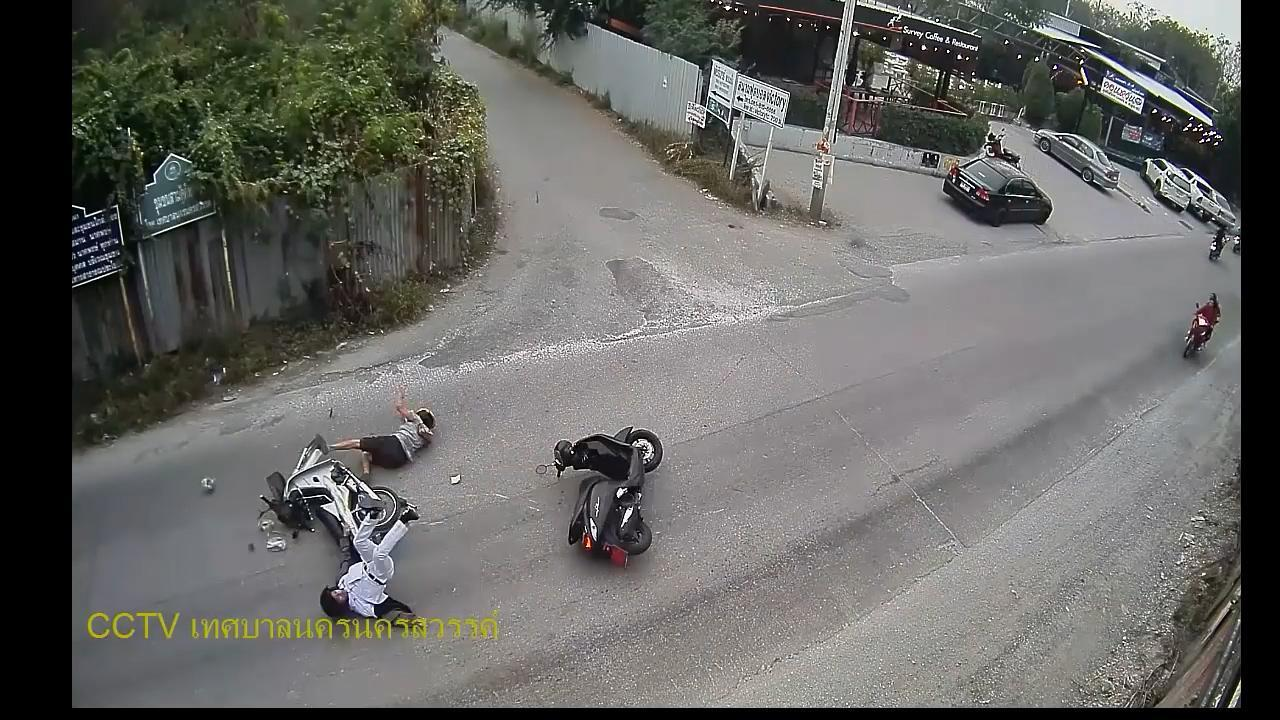accident: (320, 496, 419, 623), (332, 395, 434, 477)
